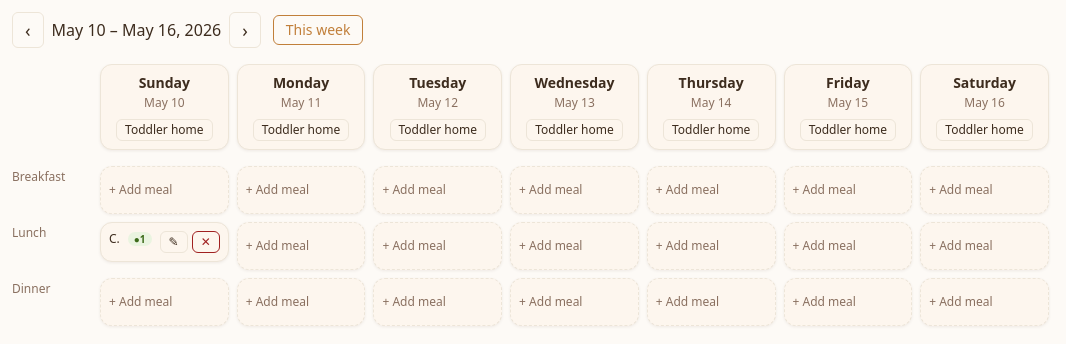
Test case: Feature 001 sign-off — AC-005 week navigation › retains each week's saved state when navigating back
The width and height of the screenshot is (1066, 344).
Expected: the button with aria-label "current week dal, expand ingredients" is shown, [109, 231, 152, 247]
Click the button named "previous week". click: (28, 30)
box: [12, 12, 44, 48]
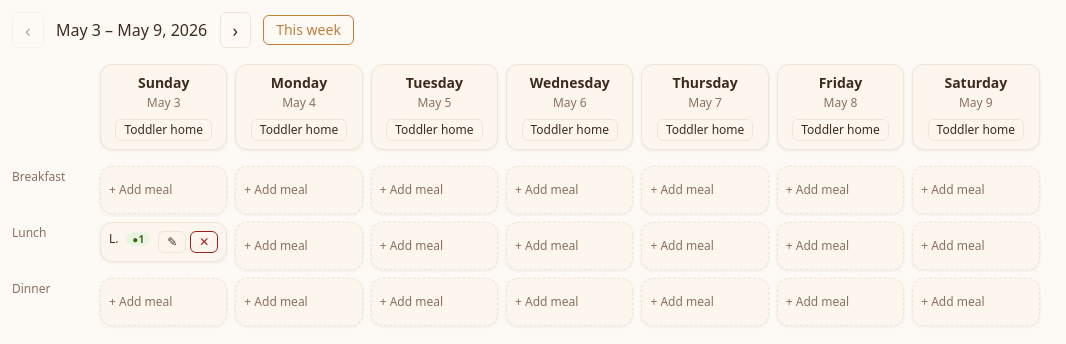
Now the button with aria-label "last week soup, expand ingredients" is shown, box [109, 231, 150, 247]
Click the button "This week". click: (309, 30)
box: [263, 15, 354, 45]
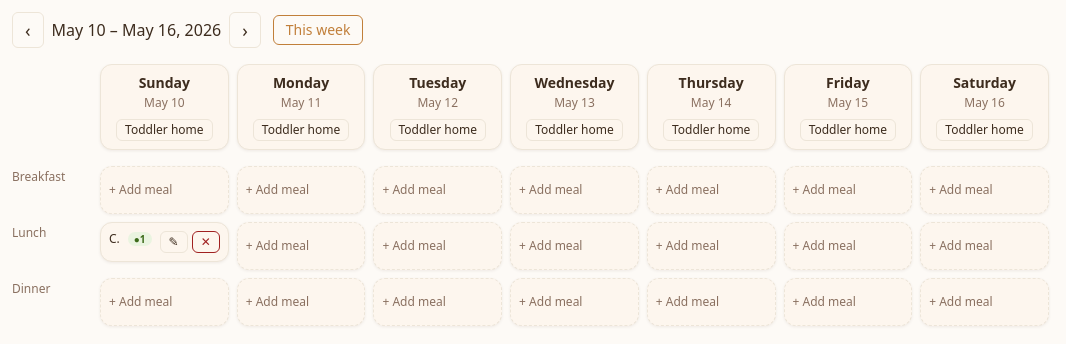
Now the button with aria-label "current week dal, expand ingredients" is shown, box [109, 231, 152, 247]
